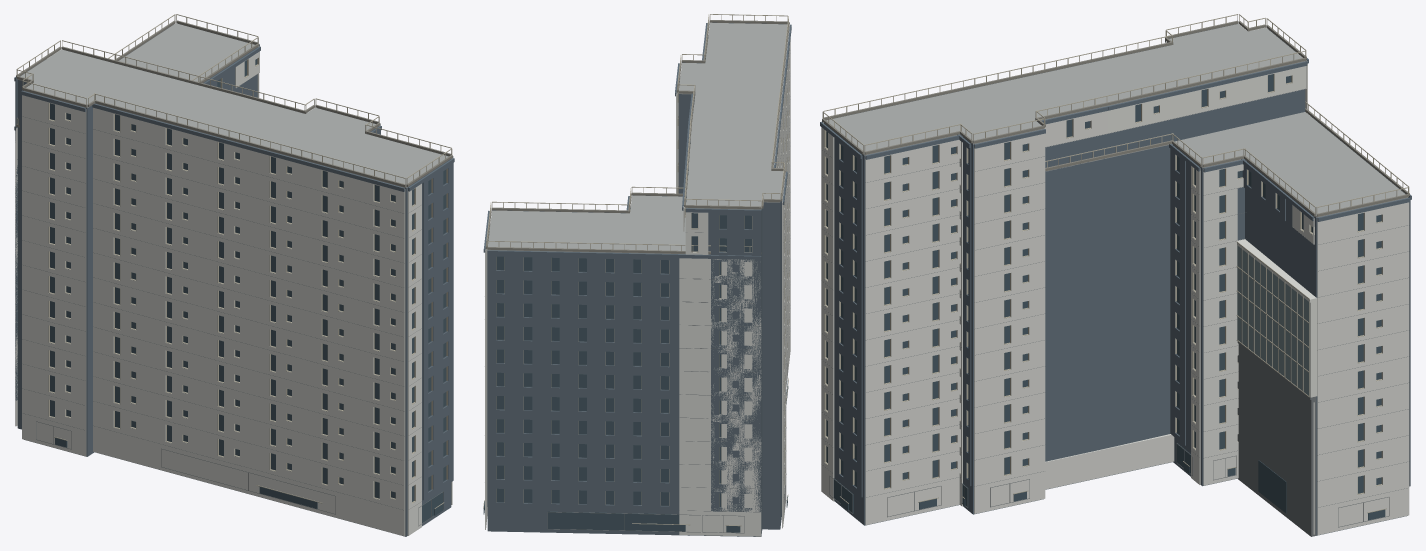
The model's file is bespoke-raemian-onebailey-102.glb.
3 views of the same model, side by side, from view 1: azimuth 30°, elevation 25°; view 2: azimuth 150°, elevation 25°; view 3: azimuth 270°, elevation 25° (orthographic). The views are drawn at different scales.
Visible parts, largest first — view 1: 102_observed_facade_bays006_4, 102_setback_roof_and_bridge_bracing006_2, 102_observed_facade_bays006_1, 102_observed_facade_bays006_3, 102_observed_facade_bays006_2, 102_authored_massing, 102_observed_facade_bays006_5, 102_setback_roof_and_bridge_bracing006, 102_setback_roof_and_bridge_bracing006_1; view 2: 102_observed_facade_bays006_3, 102_setback_roof_and_bridge_bracing006_2, 102_observed_facade_bays006_4, 102_observed_facade_bays006_1, 102_authored_massing, 102_setback_roof_and_bridge_bracing006, 102_observed_facade_bays006_2, 102_setback_roof_and_bridge_bracing006_1, 102_observed_facade_bays006_5; view 3: 102_observed_facade_bays006_4, 102_authored_massing, 102_setback_roof_and_bridge_bracing006_2, 102_observed_facade_bays006_3, 102_observed_facade_bays006_1, 102_observed_facade_bays006_5, 102_observed_facade_bays006_2, 102_observed_facade_bays006, 102_setback_roof_and_bridge_bracing006, 102_setback_roof_and_bridge_bracing006_1.
Boxes of the visible parts, x1,y1,x2,y2 form: 102_observed_facade_bays006_4: (15,46,452,536); 102_setback_roof_and_bridge_bracing006_2: (18,23,448,187); 102_observed_facade_bays006_1: (50,59,446,523); 102_observed_facade_bays006_3: (14,23,454,500); 102_observed_facade_bays006_2: (48,57,447,508); 102_authored_massing: (17,47,451,536); 102_observed_facade_bays006_5: (22,72,443,526); 102_setback_roof_and_bridge_bracing006: (16,20,452,187); 102_setback_roof_and_bridge_bracing006_1: (16,14,452,184); 102_observed_facade_bays006_3: (483,22,791,512); 102_setback_roof_and_bridge_bracing006_2: (488,22,787,254); 102_observed_facade_bays006_4: (485,26,790,536); 102_observed_facade_bays006_1: (483,37,788,532); 102_authored_massing: (487,94,781,536); 102_setback_roof_and_bridge_bracing006: (485,20,789,254); 102_observed_facade_bays006_2: (483,36,789,526); 102_setback_roof_and_bridge_bracing006_1: (486,14,788,252); 102_observed_facade_bays006_5: (547,50,790,533); 102_observed_facade_bays006_4: (821,41,1409,534); 102_authored_massing: (824,42,1407,535); 102_setback_roof_and_bridge_bracing006_2: (826,24,1407,217); 102_observed_facade_bays006_3: (820,24,1411,497); 102_observed_facade_bays006_1: (826,74,1385,520); 102_observed_facade_bays006_5: (821,88,1408,536); 102_observed_facade_bays006_2: (824,74,1386,513); 102_observed_facade_bays006: (1237,245,1309,396); 102_setback_roof_and_bridge_bracing006: (822,20,1409,216); 102_setback_roof_and_bridge_bracing006_1: (822,14,1409,213).
Size of the model in its own units: 36.14 by 44.65 by 62.83.
